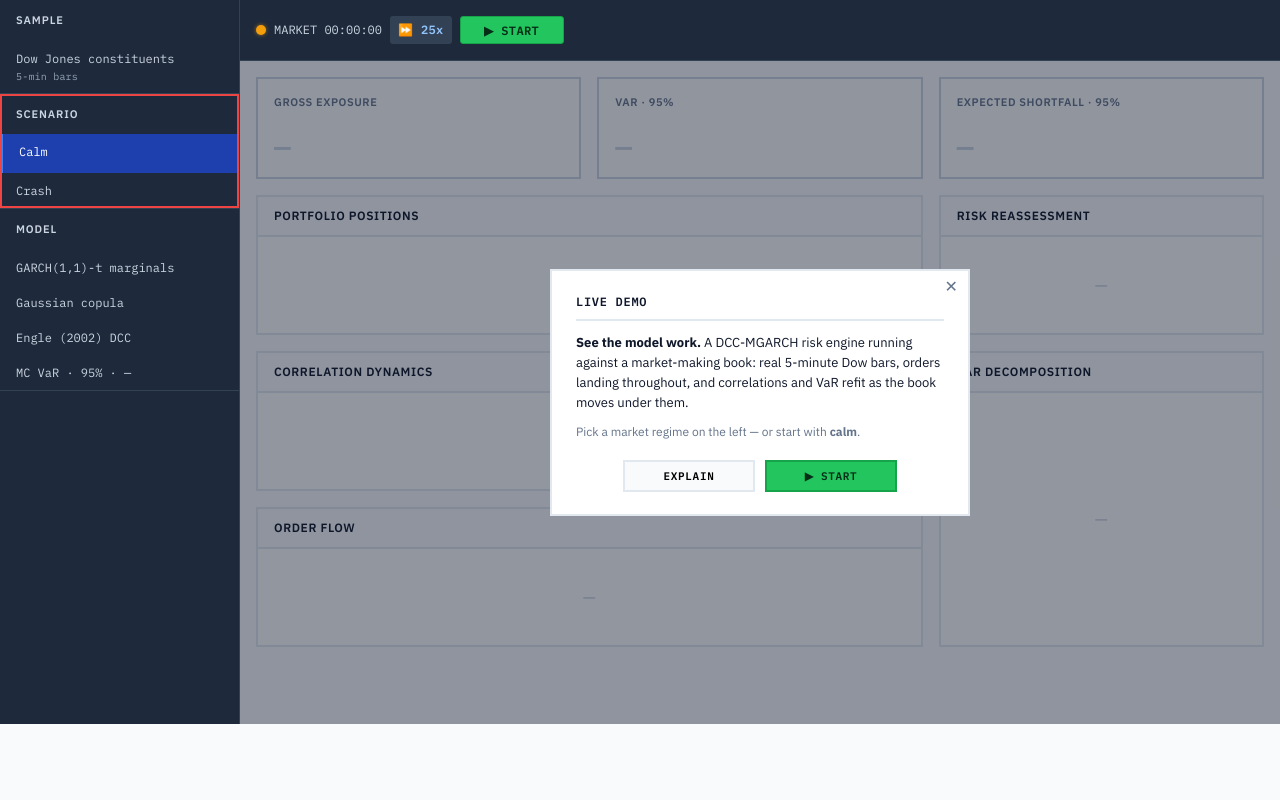
Test case: TerminalDesk › plays the critical path: cold gate, start, panels, restart
The width and height of the screenshot is (1280, 800).
Expected: the element with class "skeleton" showing "Portfolio Positions —" is shown, x1=256 y1=195 x2=923 y2=335
# --- START: the payload is pulled and the run begins ---------------------------
Click the button "▶ START" below "See the model work.": (831, 476) x1=765 y1=460 x2=897 y2=492
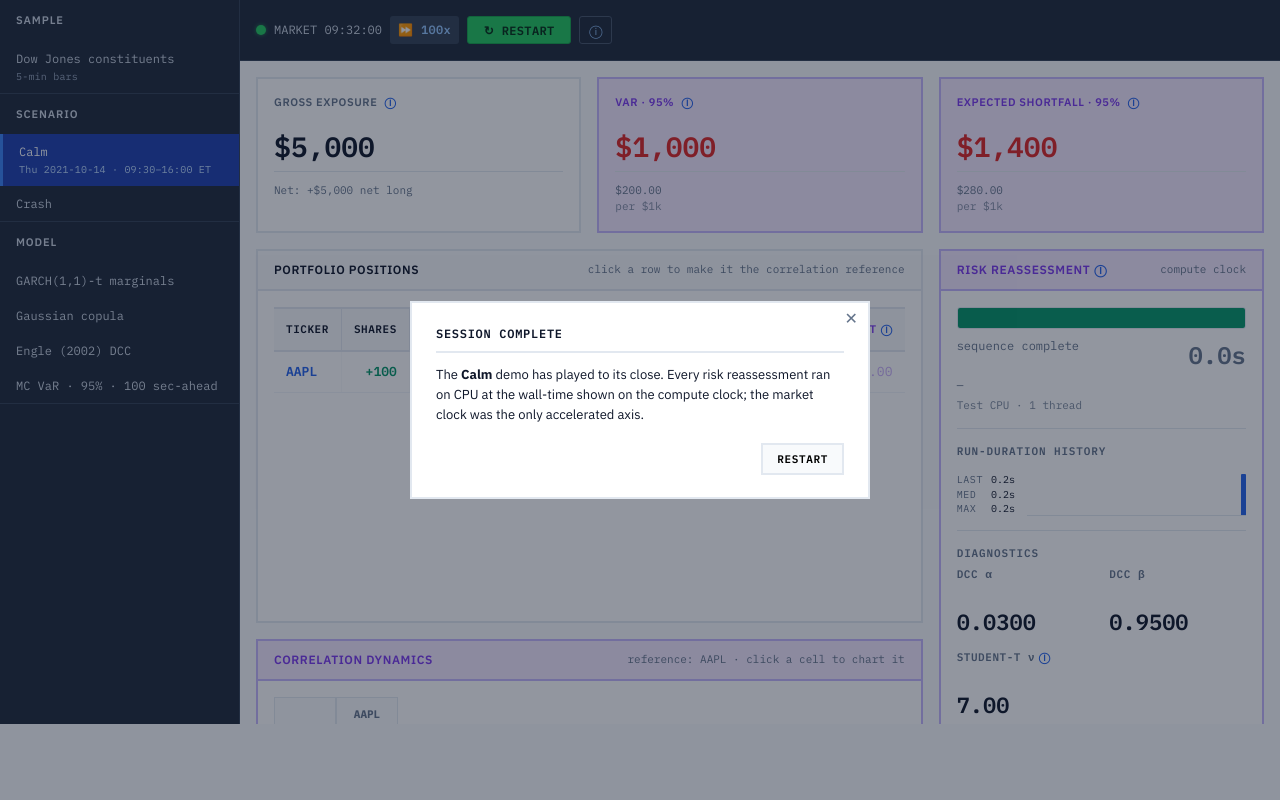
Expected: the button "▶ START" is gone
Expected: no elements with class "skeleton" are shown
Expected: the text "$1,400" is shown, x1=957 y1=128 x2=1058 y2=165
Click the button "RESTART": (803, 459) x1=761 y1=443 x2=844 y2=475
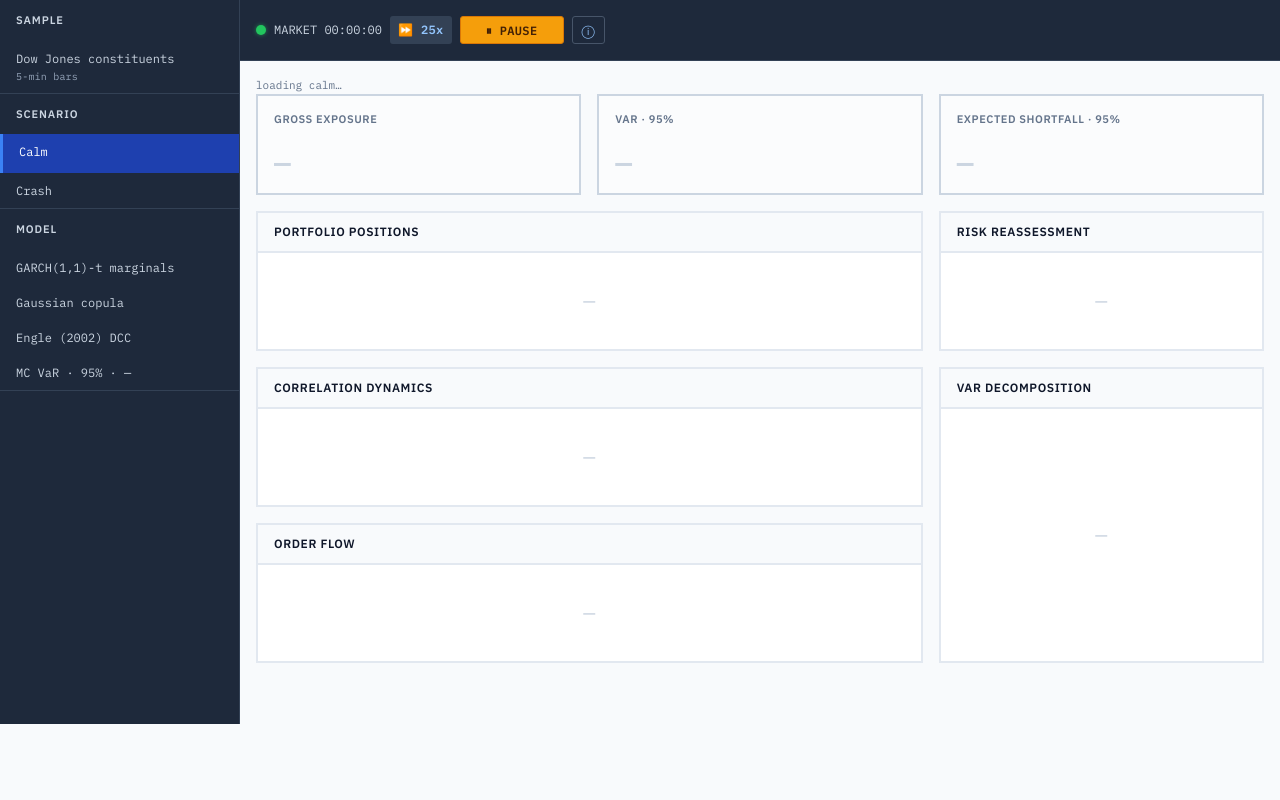
Expected: the text "SESSION COMPLETE" is gone
